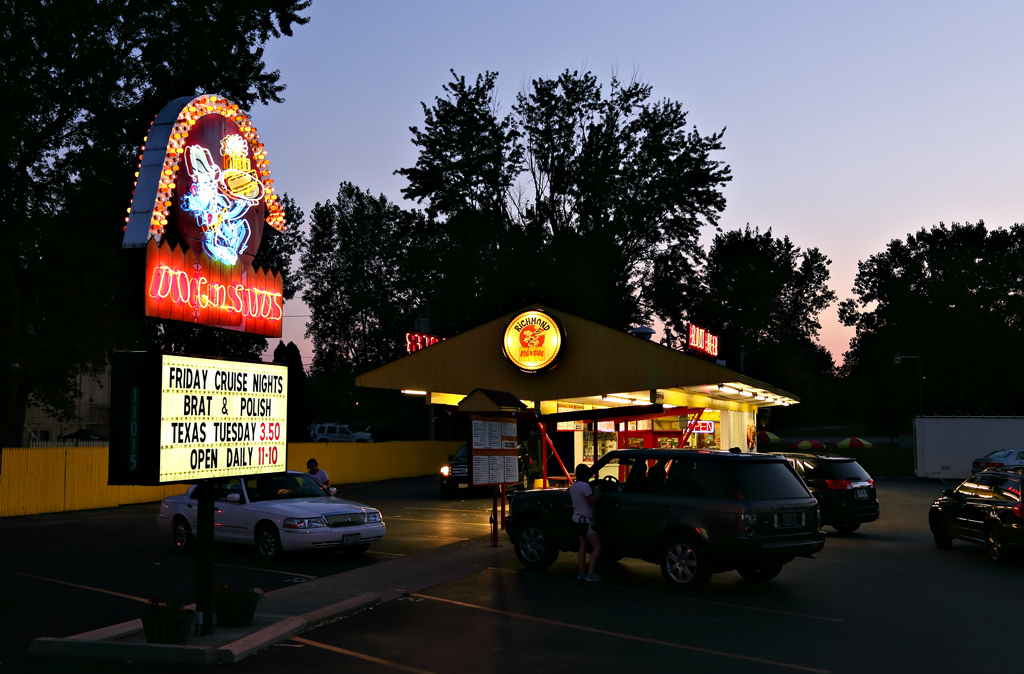Car: (496, 447, 828, 581), (156, 478, 382, 562), (723, 445, 883, 534), (926, 442, 1022, 570)
